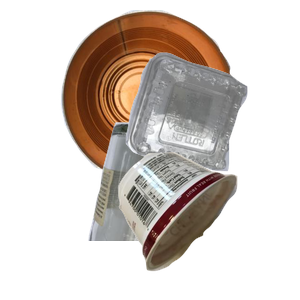glass: (86, 120, 277, 300)
metal: (58, 10, 289, 186)
plastic: (123, 50, 300, 214)
trash: (116, 149, 300, 300)
